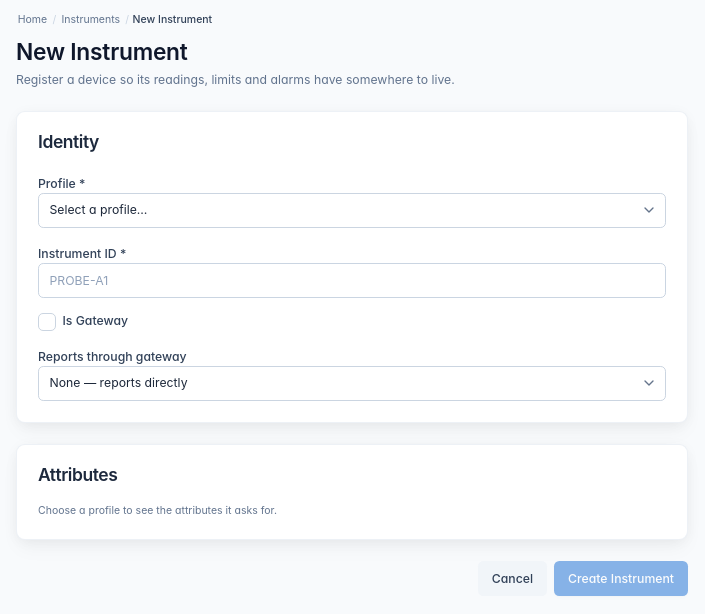
Test: InstrumentCreatePage — attributes come from the profile › shows a LOADING line, never "no attributes", while the profile is in flight
The image size is (705, 614).
Select "Cleanroom-A" in the dropdown labelled "Profile *" at (352, 210), box x1=38 y1=193 x2=666 y2=228
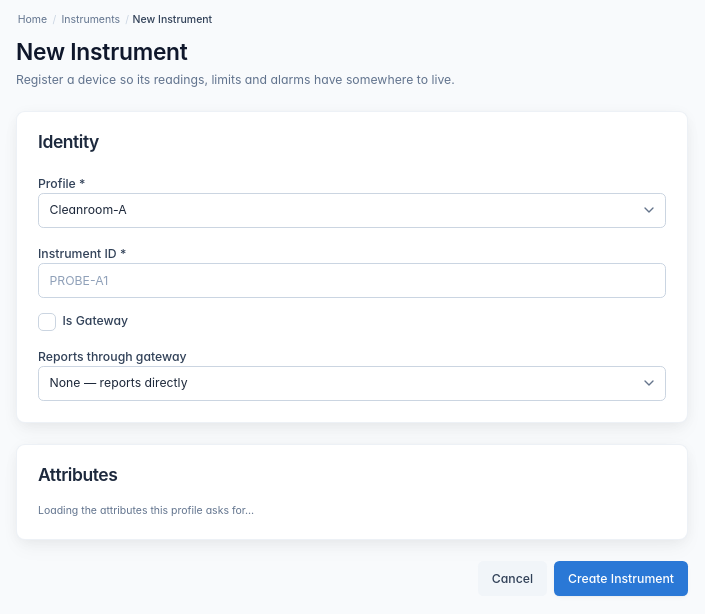
Check: the text "Loading the attributes this profile asks for…" is shown, box x1=38 y1=504 x2=254 y2=517
